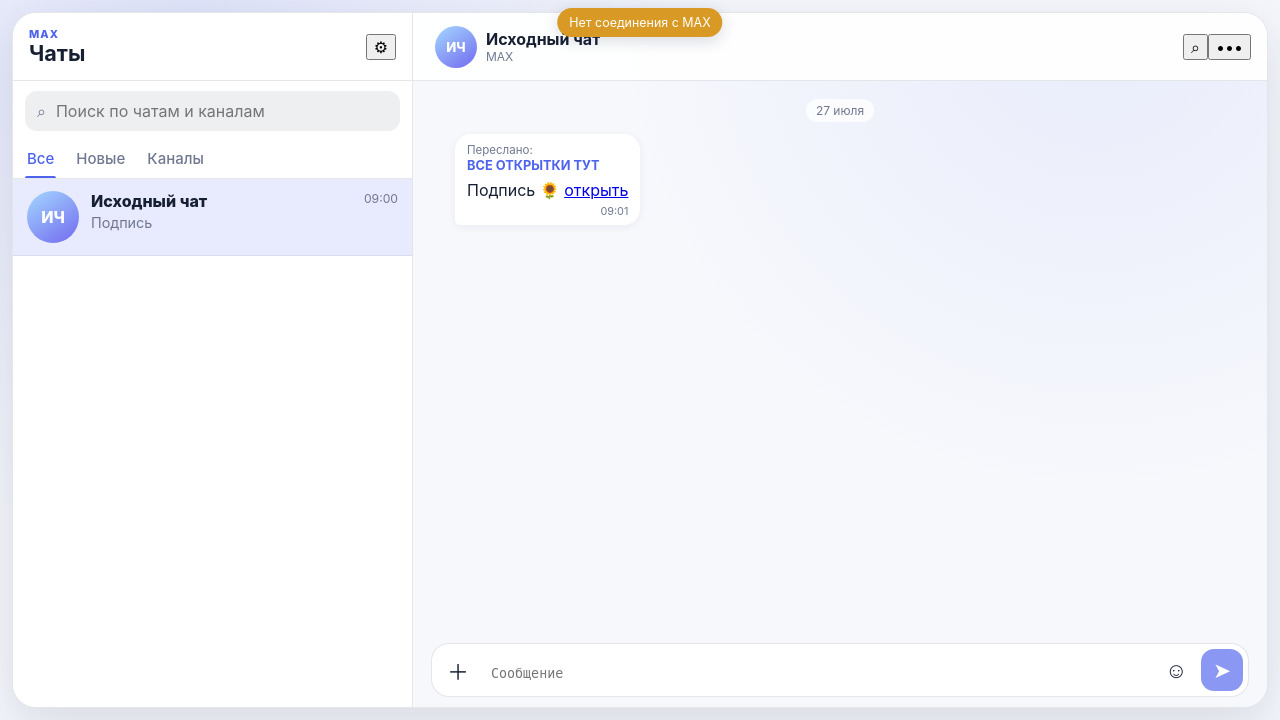
ConnectedMessenger startup › opens a rich forwarded source even when it is absent from the chat list
Click the button "ВСЕ ОТКРЫТКИ ТУТ" at coordinates (548, 166), box left=467, top=158, right=628, bottom=173
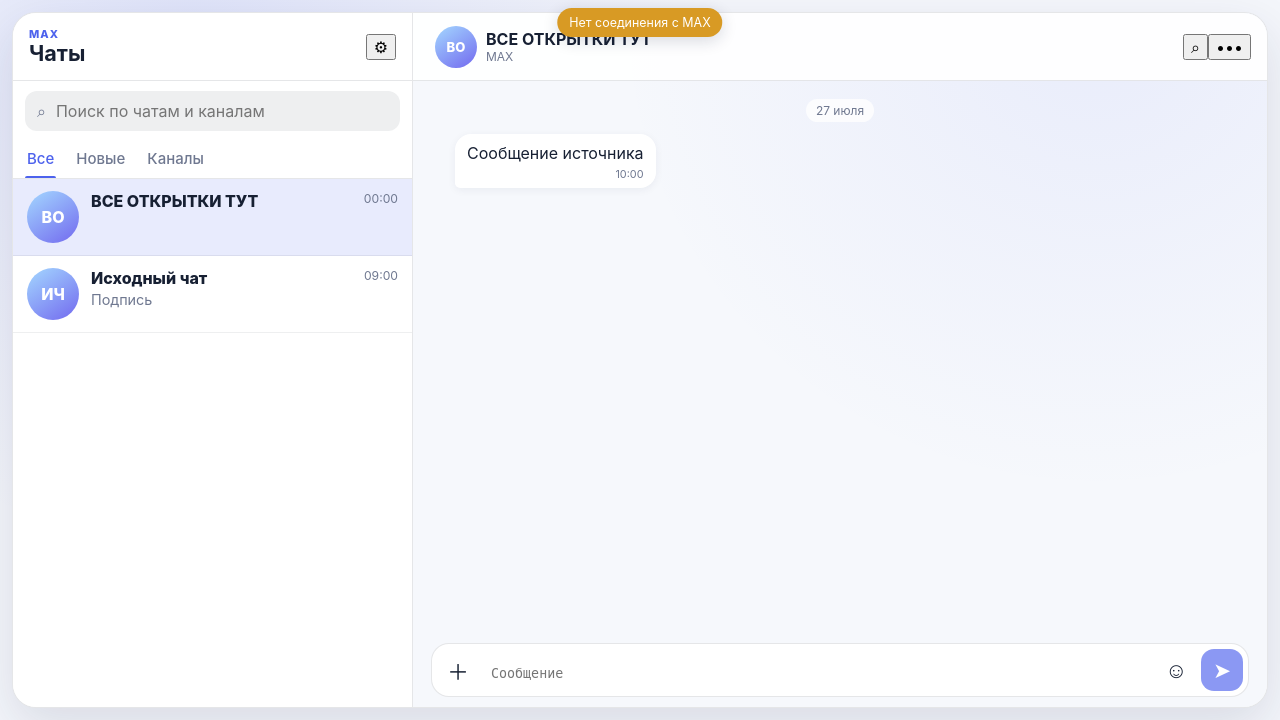
expect the text "Сообщение источника" is shown: met, box left=467, top=143, right=644, bottom=163
